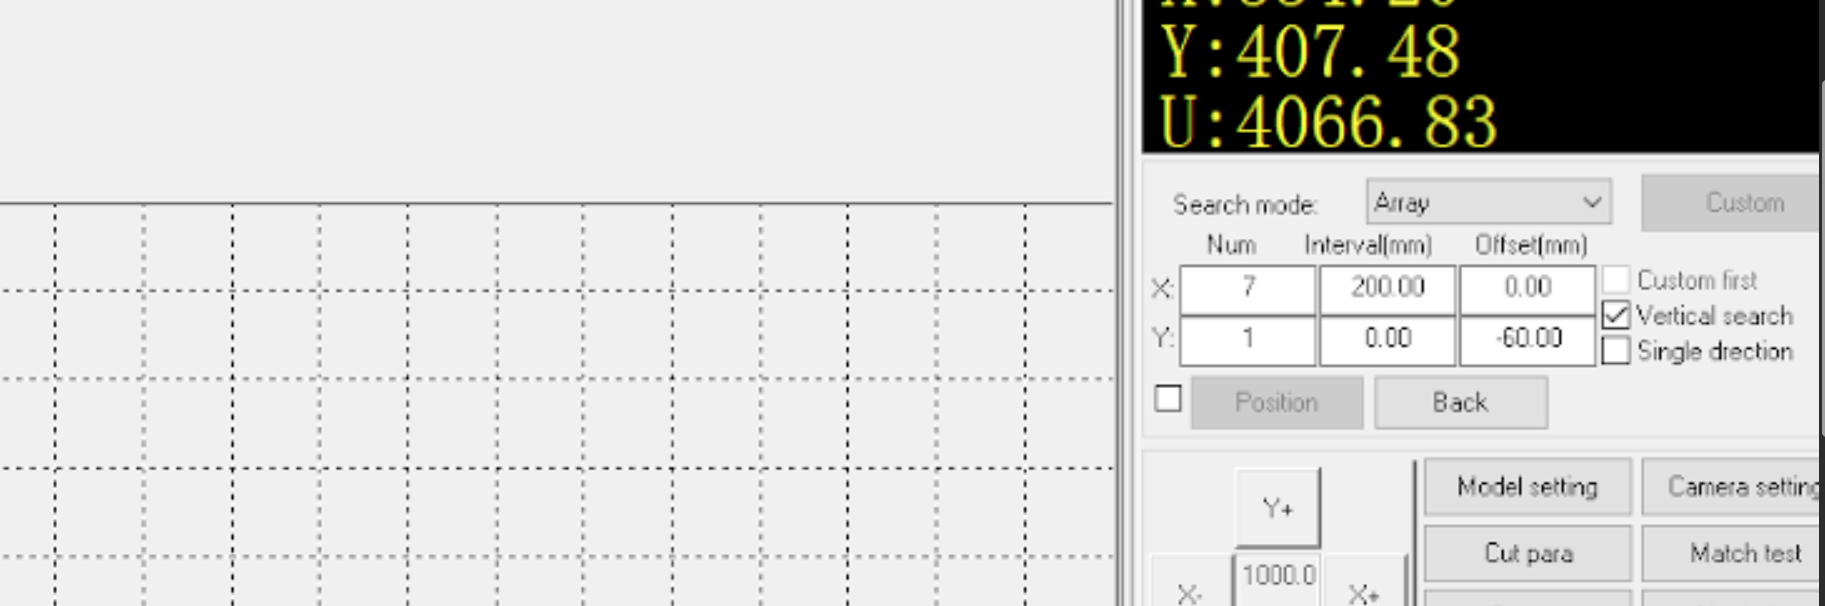timer: (1461, 226, 1609, 368)
